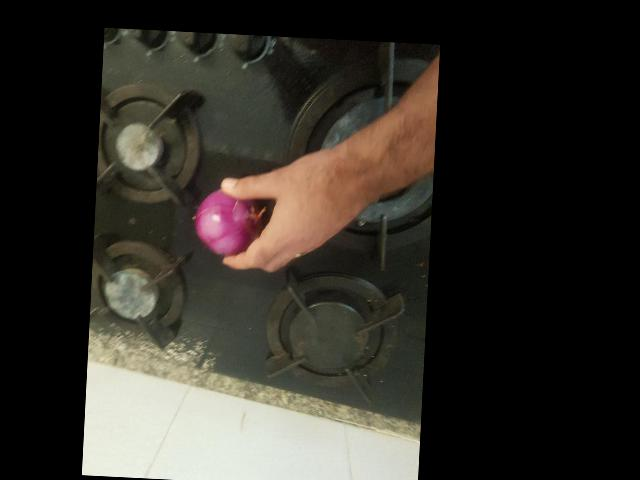onion: (129, 311, 200, 383)
